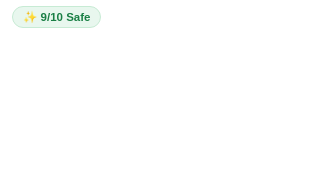
Scenario: SafetyBadge › shows details and supports a refreshed check
The image size is (332, 187).
Later steps or results of the test are not shown.
Click the button "✨ 9/10 Safe" at point(57, 17), box x1=12 y1=6 x2=101 y2=28
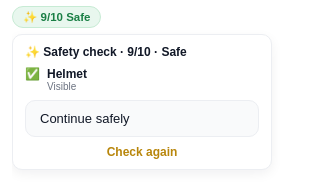
Result: the text "Helmet" is shown at x1=47 y1=67 x2=87 y2=81
Result: the text "Continue safely" is shown at x1=25 y1=100 x2=259 y2=137
